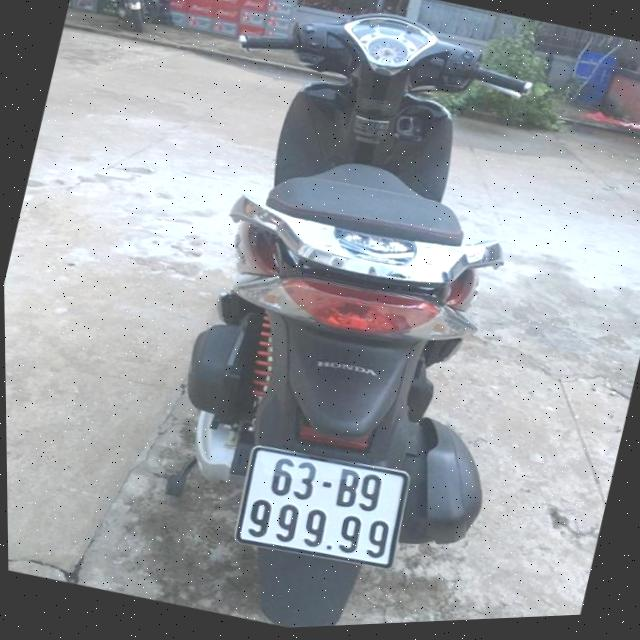motorcycle: (87, 0, 596, 636), (71, 0, 183, 41)
plate: (226, 429, 420, 583)
